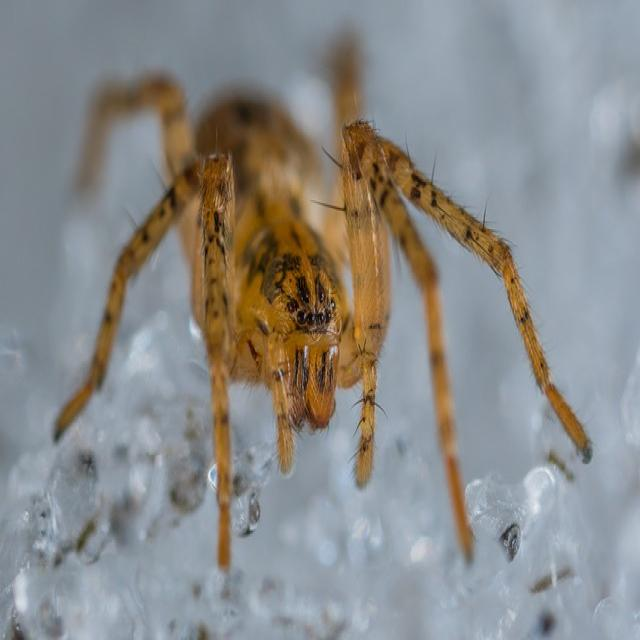spyder: (55, 40, 588, 569)
